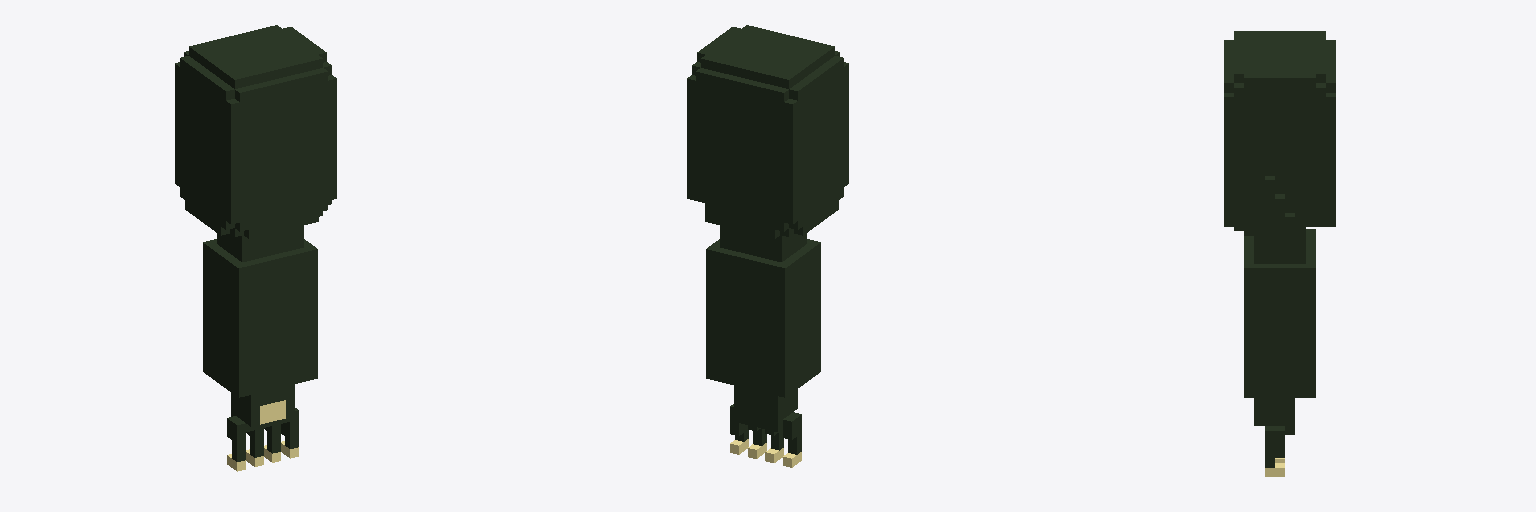
The picture shows the model from 3 angles: view 1: azimuth 30°, elevation 25°; view 2: azimuth 150°, elevation 25°; view 3: azimuth 270°, elevation 25°; orthographic projection.
Parts seen in each view (by area): view 1: object 1; view 2: object 1; view 3: object 1.
Boxes of the visible parts, <box> form: object 1: <box>175,25,336,471</box>; object 1: <box>687,25,848,467</box>; object 1: <box>1224,31,1335,476</box>.
Bounding box in the file's own units: 1.2 × 4.4 × 1.1.
Materials: 1 (1 with a texture image).